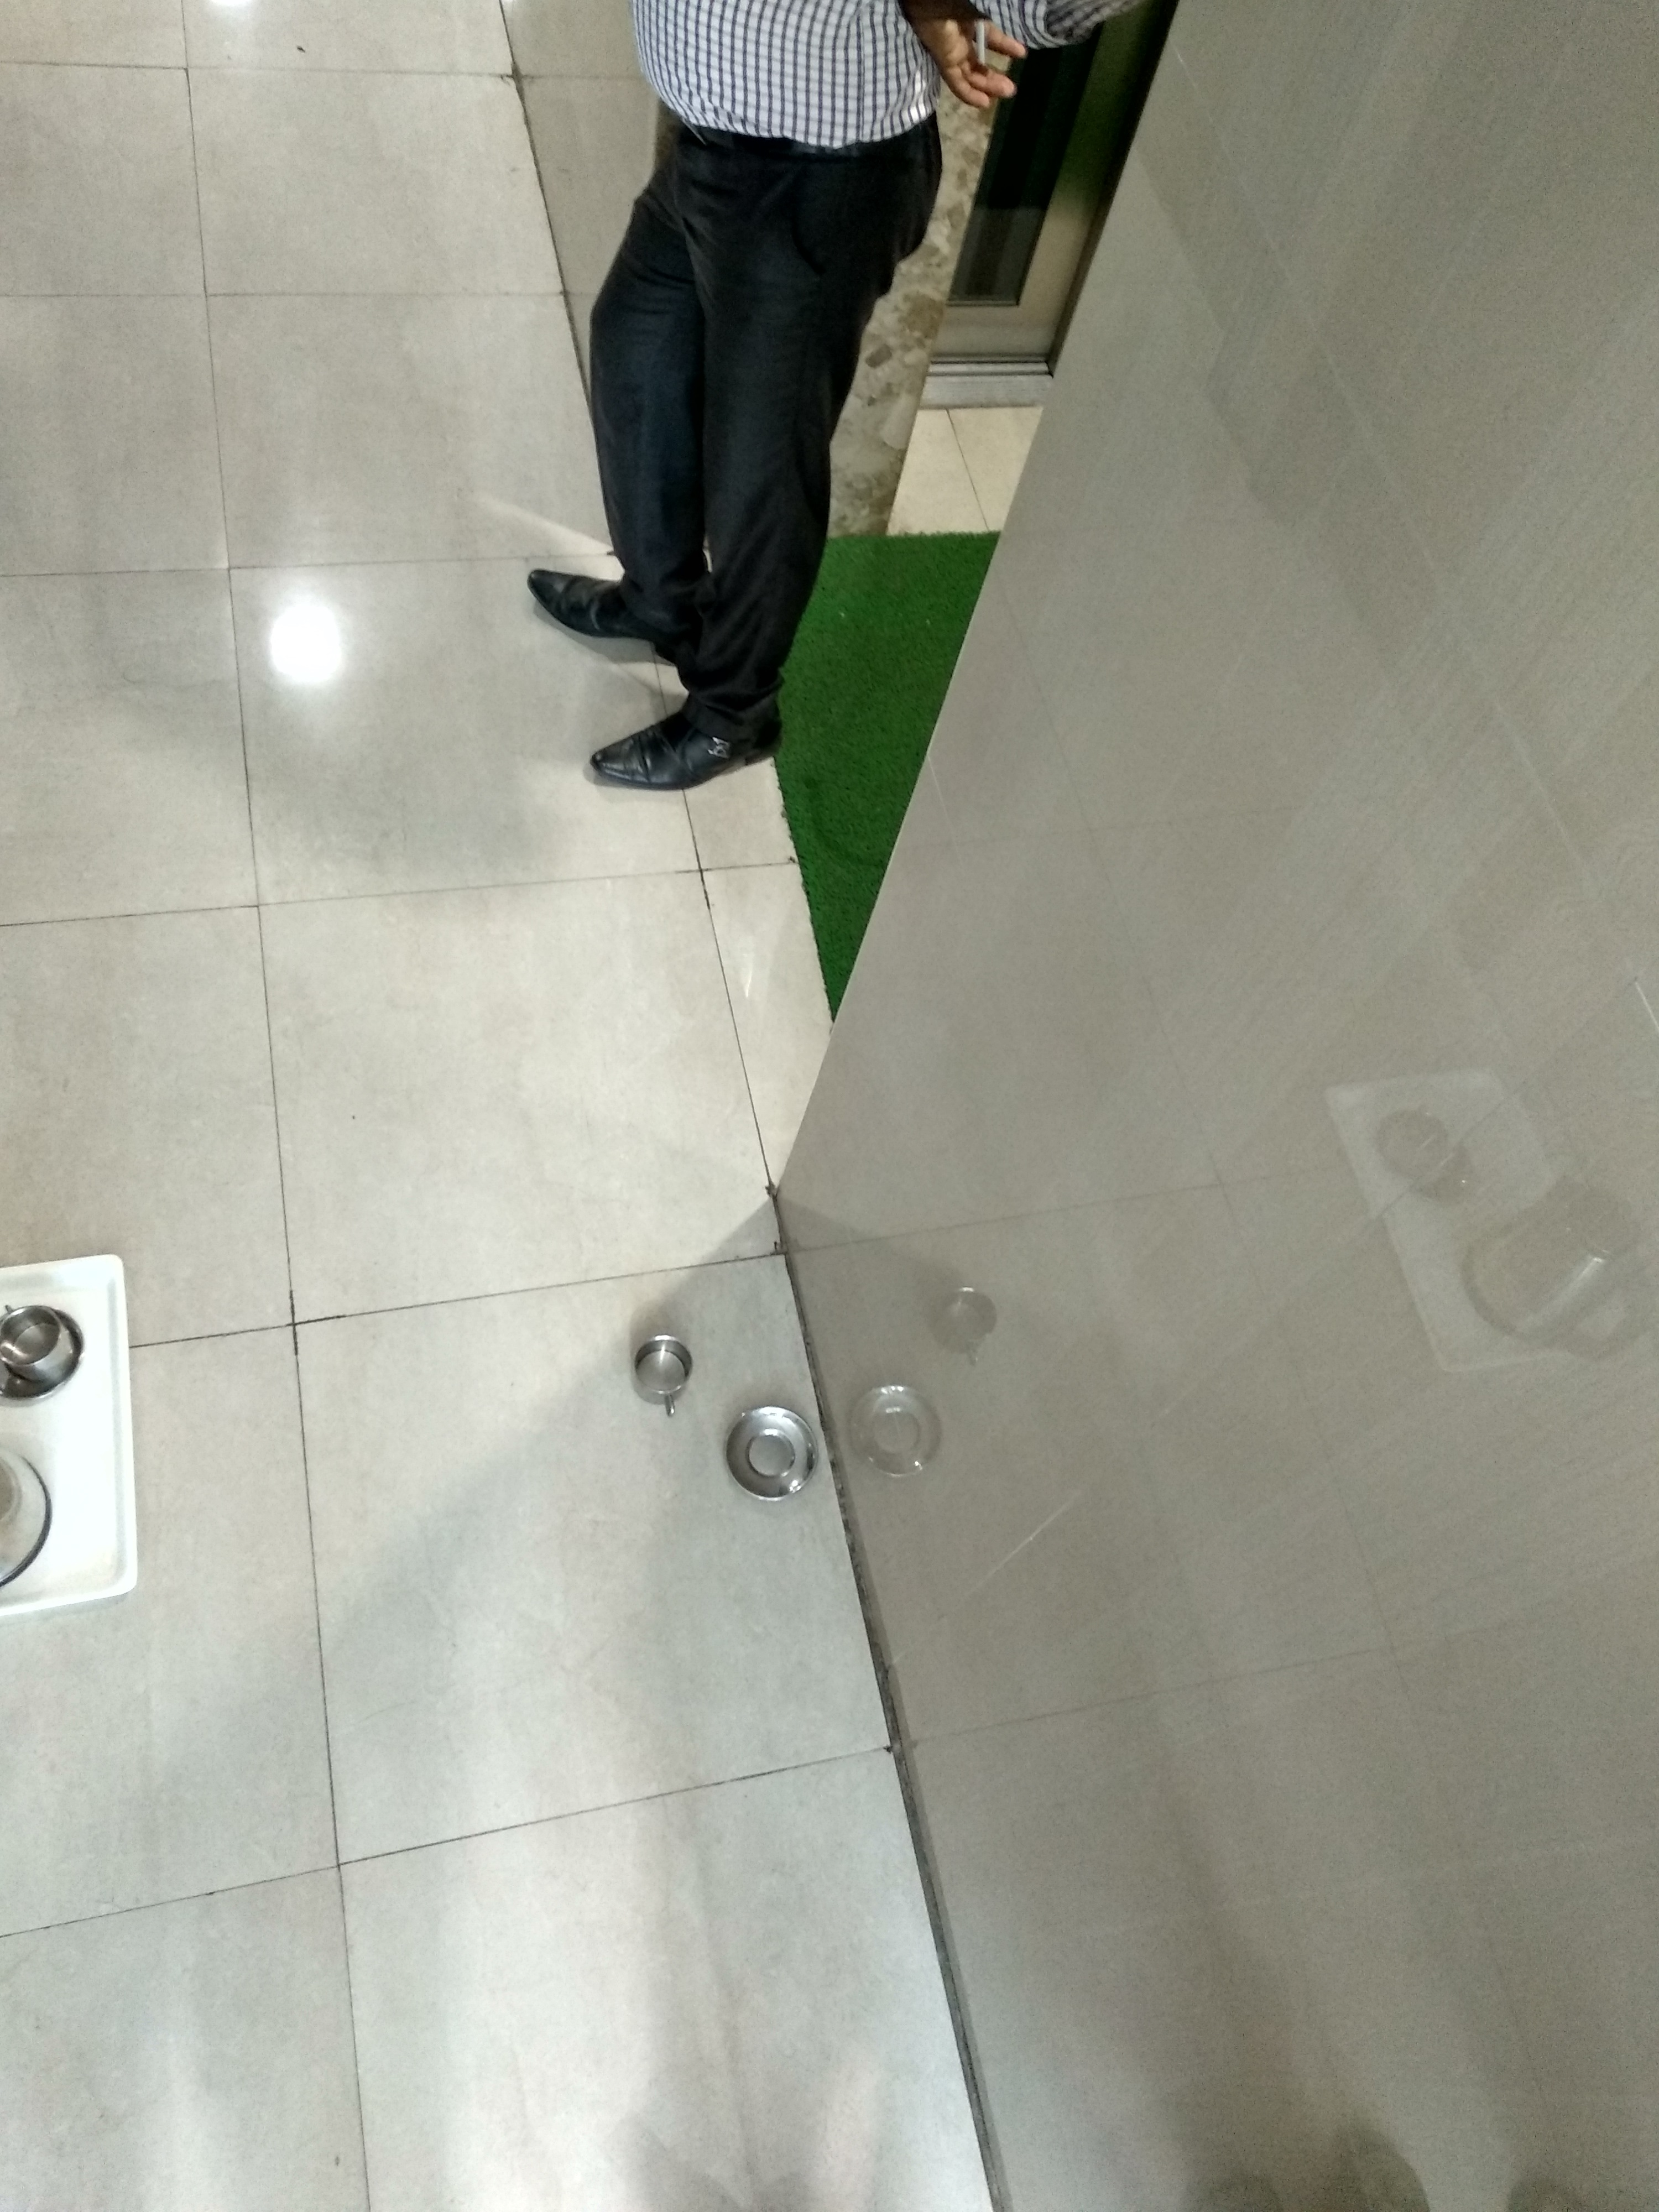CUP: (0, 1299, 84, 1385), (627, 1338, 702, 1416)
